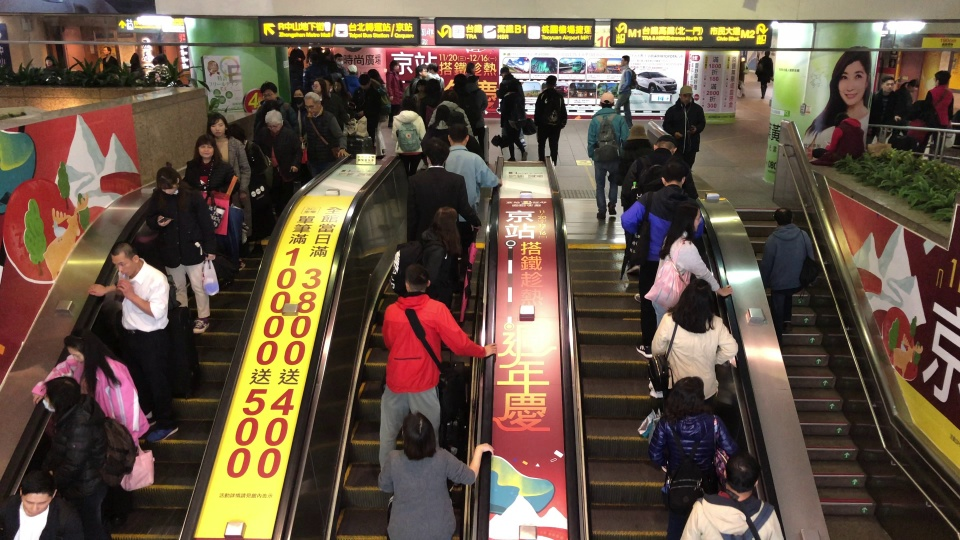person_head: (15, 469, 57, 516), (719, 451, 760, 495), (42, 377, 80, 416), (685, 282, 716, 329), (669, 376, 705, 415), (396, 411, 434, 447), (62, 333, 101, 368), (424, 207, 459, 240), (108, 242, 140, 276), (399, 263, 430, 295), (671, 205, 701, 235), (153, 163, 181, 195), (422, 140, 449, 167), (660, 160, 687, 187), (192, 134, 216, 161), (207, 112, 228, 138), (771, 206, 795, 228), (445, 127, 469, 147), (302, 92, 322, 115), (265, 111, 283, 133), (627, 124, 649, 142), (259, 81, 278, 101), (932, 69, 952, 87), (432, 105, 450, 124), (227, 124, 246, 141), (655, 136, 676, 151), (830, 113, 850, 128), (597, 92, 614, 109), (878, 75, 894, 92), (678, 84, 693, 102), (309, 79, 326, 94), (368, 68, 383, 82), (400, 96, 416, 109), (441, 89, 458, 101), (544, 74, 557, 89), (414, 65, 428, 78), (905, 78, 918, 92), (290, 89, 302, 104), (453, 72, 466, 85), (42, 55, 56, 67), (357, 74, 369, 88), (464, 62, 476, 75), (347, 63, 358, 76), (497, 67, 510, 78), (467, 76, 479, 87), (619, 55, 630, 67), (156, 53, 166, 65), (334, 53, 344, 65), (389, 60, 399, 71), (333, 79, 342, 91), (101, 45, 111, 55), (428, 62, 438, 72), (503, 85, 515, 93), (308, 57, 316, 65), (763, 50, 771, 57), (293, 43, 300, 50), (740, 55, 746, 61)
person_vbox: (374, 262, 492, 486), (32, 334, 155, 523), (88, 241, 180, 444), (32, 377, 137, 540), (647, 205, 735, 399), (651, 280, 740, 469), (623, 160, 704, 354), (380, 411, 496, 540), (648, 376, 735, 536), (143, 163, 217, 334), (621, 136, 698, 293), (678, 450, 785, 540), (184, 134, 242, 288), (401, 140, 483, 247), (761, 206, 819, 339), (388, 207, 462, 310), (205, 112, 253, 270), (226, 122, 279, 257), (442, 126, 501, 243), (0, 468, 83, 540), (585, 92, 630, 217), (616, 125, 653, 269), (256, 110, 301, 209), (661, 84, 707, 173), (531, 74, 569, 166), (301, 92, 348, 163), (252, 81, 299, 152), (807, 112, 865, 169), (421, 105, 483, 156), (386, 96, 426, 175), (492, 67, 529, 146), (923, 69, 955, 154), (866, 75, 900, 145), (499, 85, 529, 160), (428, 90, 475, 136), (367, 68, 391, 157), (611, 55, 637, 130), (355, 73, 379, 153), (892, 78, 919, 143), (464, 78, 488, 143), (384, 59, 404, 129), (328, 79, 351, 129), (755, 50, 775, 100), (290, 89, 307, 135), (405, 65, 428, 98), (308, 79, 330, 111), (302, 57, 322, 90), (737, 54, 750, 99), (426, 62, 445, 89), (344, 63, 360, 95), (100, 45, 118, 73), (153, 54, 171, 82), (331, 53, 349, 80), (289, 43, 305, 73), (42, 55, 61, 79)
